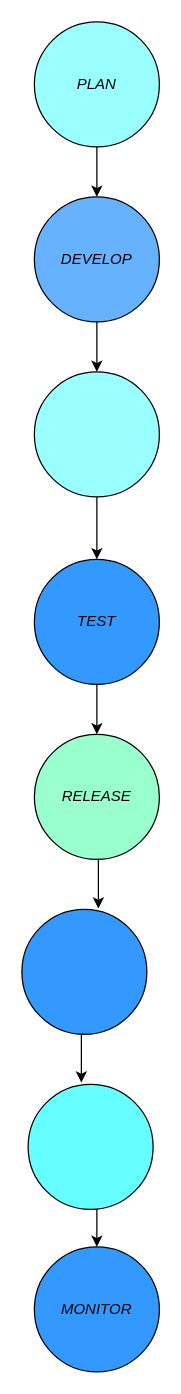
The diagram is 181 pixels wide and 1394 high, and some of its shapes have lost their labels. Each missing label, with the centre of its shape:
"BULID" belongs at point (96, 434).
"DEPLOY" belongs at point (84, 971).
"OPERATE" belongs at point (90, 1146).
